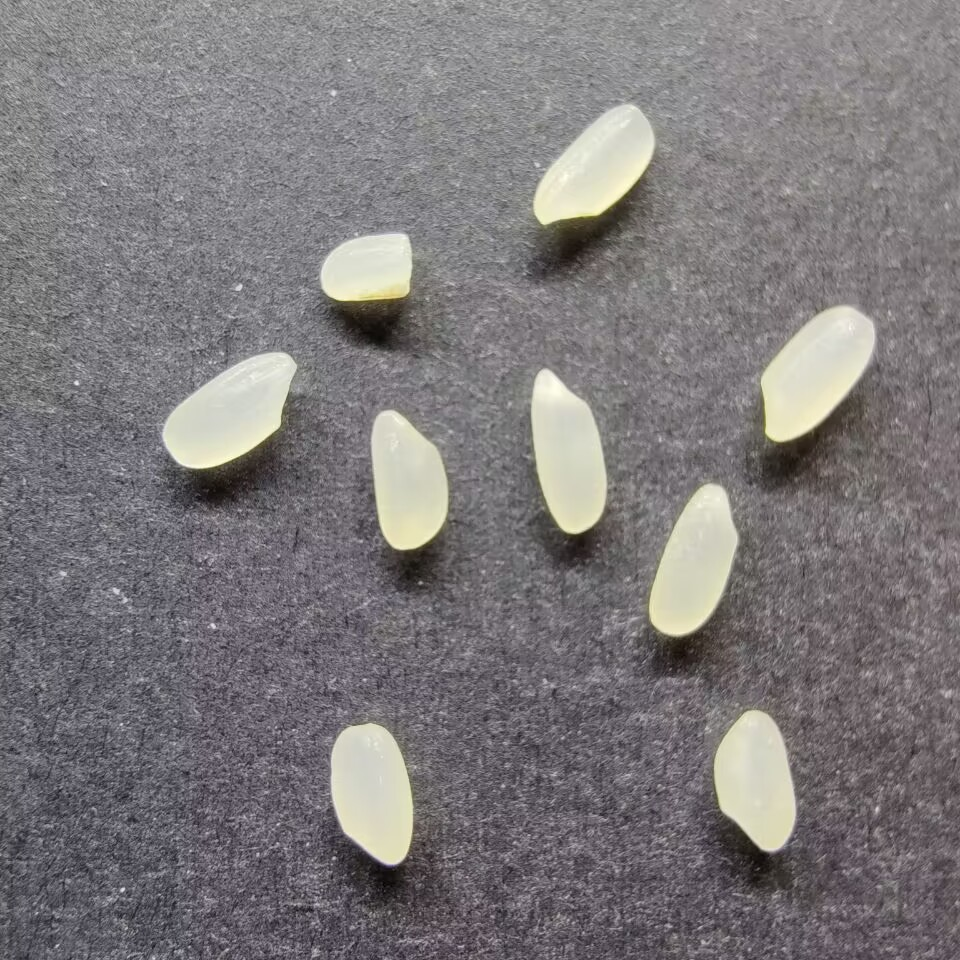broken: (316, 231, 415, 304)
rice: (757, 303, 878, 443), (160, 348, 297, 470), (530, 102, 656, 225), (646, 482, 741, 637), (528, 368, 610, 535), (711, 708, 799, 853), (327, 721, 413, 866), (368, 409, 448, 552)
